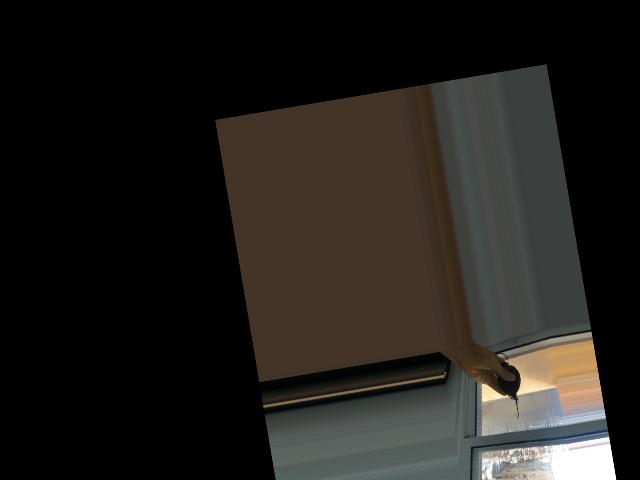beet: (486, 350, 527, 422)
